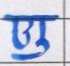u_matra: (13, 40, 52, 61)
